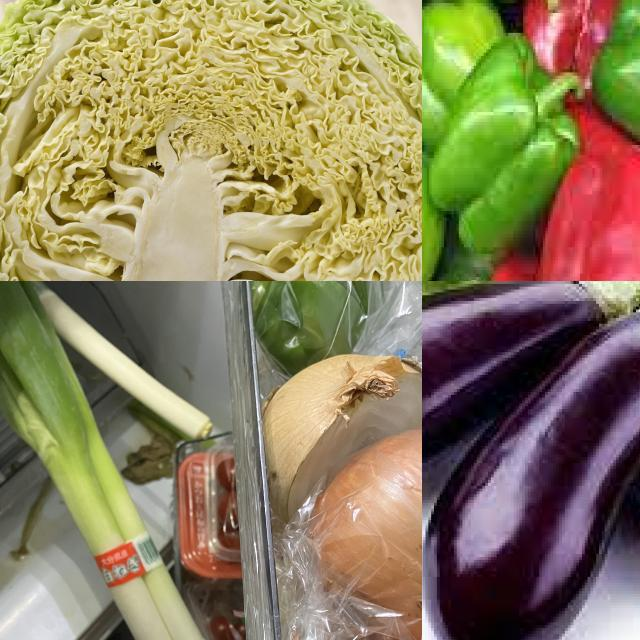bell_pepper: (423, 36, 593, 259), (584, 1, 640, 175)
cabbage: (1, 1, 423, 282)
eggplant: (423, 308, 640, 640), (423, 282, 625, 495), (571, 282, 640, 600)
onion: (1, 282, 262, 640), (23, 282, 218, 442), (258, 353, 423, 531), (311, 429, 423, 640)
